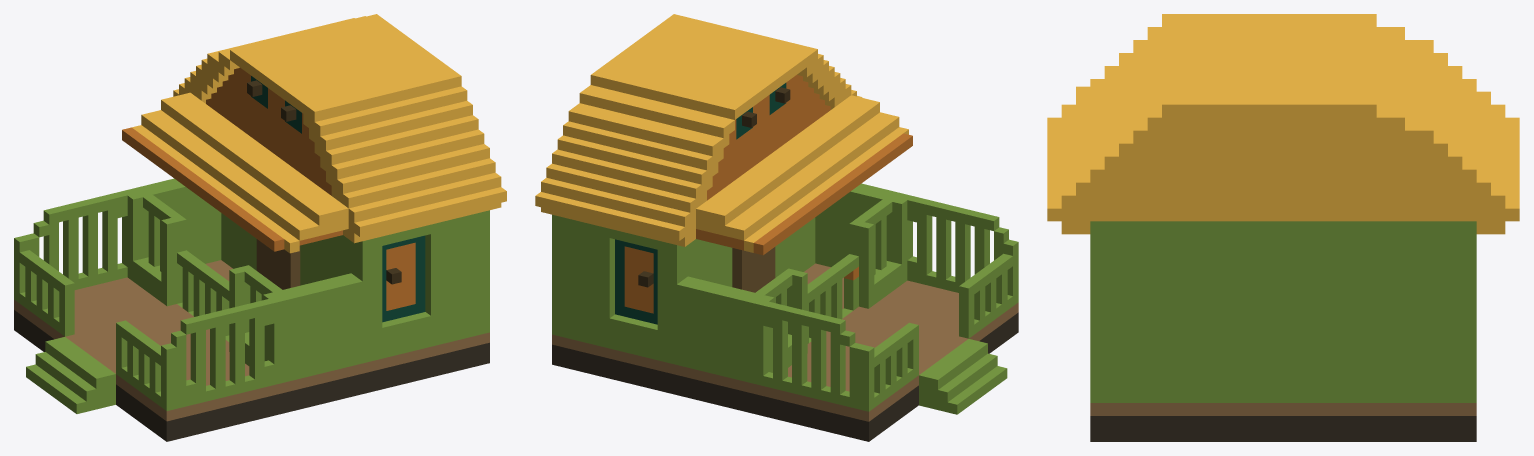
The model's file is id-beach-surfshop.obj.
The picture shows the model from 3 angles, left to right: view 1: azimuth 30°, elevation 25°; view 2: azimuth 150°, elevation 25°; view 3: azimuth 270°, elevation 25°; orthographic projection. The views are drawn at different scales.
Bounding box in the file's own units: 37 × 26 × 33.
1 material, 1 textured.
